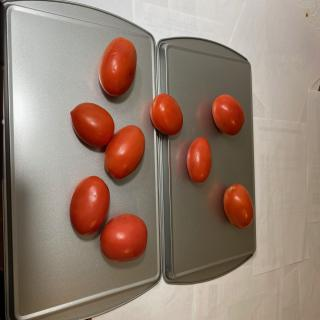Tomato: (69, 175, 110, 236), (98, 36, 137, 96), (100, 214, 147, 262), (104, 125, 145, 179), (70, 102, 115, 148), (223, 183, 254, 229), (150, 93, 183, 135), (212, 94, 245, 135), (186, 136, 212, 183)
